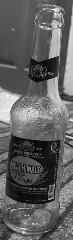glass: (5, 4, 70, 236)
